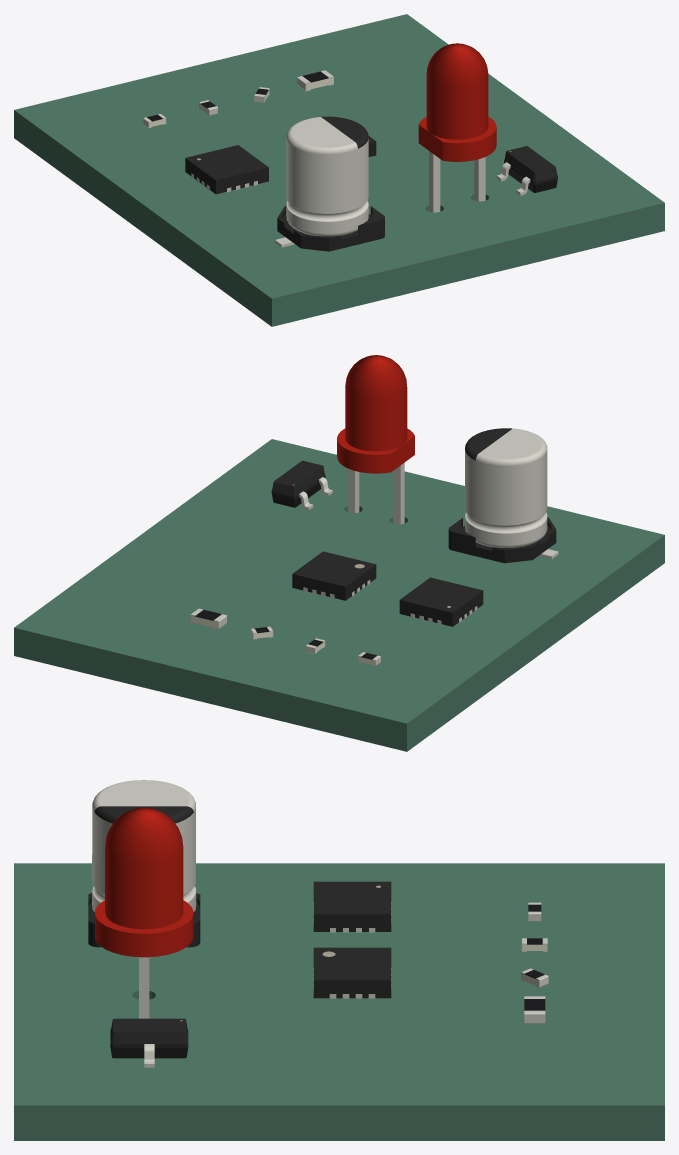
The model's file is quantize-full.glb.
3 renders of one model, top to bottom at view 1: azimuth 30°, elevation 25°; view 2: azimuth 150°, elevation 25°; view 3: azimuth 270°, elevation 25°, orthographic. The views are drawn at different scales.
Parts seen in each view (by area): view 1: tiny_PCB, CP_Elec_4x5.4, LED_D3.0mm, QFN-16-1EP_3x3mm_P0.5mm_EP1.7x1.7mm, SOT-23, R_0603_1608Metric; view 2: tiny_PCB, CP_Elec_4x5.4, LED_D3.0mm, QFN-16-1EP_3x3mm_P0.5mm_EP1.8x1.8mm, QFN-16-1EP_3x3mm_P0.5mm_EP1.7x1.7mm, SOT-23; view 3: tiny_PCB, LED_D3.0mm, CP_Elec_4x5.4, QFN-16-1EP_3x3mm_P0.5mm_EP1.8x1.8mm, QFN-16-1EP_3x3mm_P0.5mm_EP1.7x1.7mm, SOT-23, R_0603_1608Metric.
Boxes of the visible parts, x1,y1,x2,y2 form: tiny_PCB: [14, 14, 664, 326]; CP_Elec_4x5.4: [275, 116, 384, 251]; LED_D3.0mm: [418, 43, 496, 212]; QFN-16-1EP_3x3mm_P0.5mm_EP1.7x1.7mm: [185, 145, 268, 194]; SOT-23: [496, 146, 557, 195]; R_0603_1608Metric: [297, 70, 333, 91]; tiny_PCB: [14, 439, 664, 751]; CP_Elec_4x5.4: [448, 428, 558, 563]; LED_D3.0mm: [337, 355, 414, 524]; QFN-16-1EP_3x3mm_P0.5mm_EP1.8x1.8mm: [292, 551, 376, 600]; QFN-16-1EP_3x3mm_P0.5mm_EP1.7x1.7mm: [399, 577, 483, 626]; SOT-23: [271, 460, 332, 510]; tiny_PCB: [14, 863, 664, 1140]; LED_D3.0mm: [95, 807, 193, 1018]; CP_Elec_4x5.4: [88, 780, 200, 957]; QFN-16-1EP_3x3mm_P0.5mm_EP1.8x1.8mm: [313, 947, 391, 998]; QFN-16-1EP_3x3mm_P0.5mm_EP1.7x1.7mm: [313, 881, 391, 932]; SOT-23: [110, 1018, 188, 1067]; R_0603_1608Metric: [524, 996, 545, 1023].
Size of the model in its own units: 0.022 by 0.0108 by 0.025.
